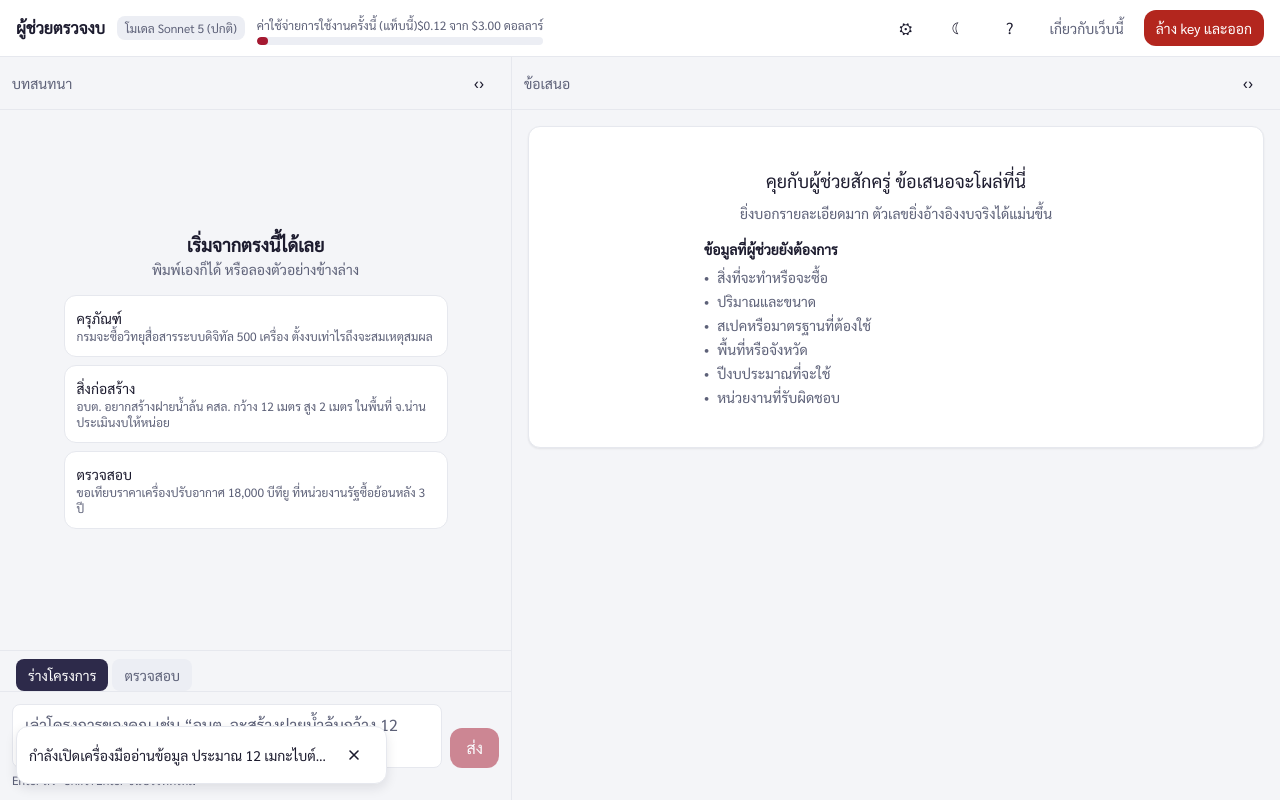
Test: WorkspacePage — header (06 §4.2) › เปิดหน้าตั้งค่าได้จากปุ่ม settings
Click the button named "ตั้งค่า": (906, 28) [886, 8, 926, 48]
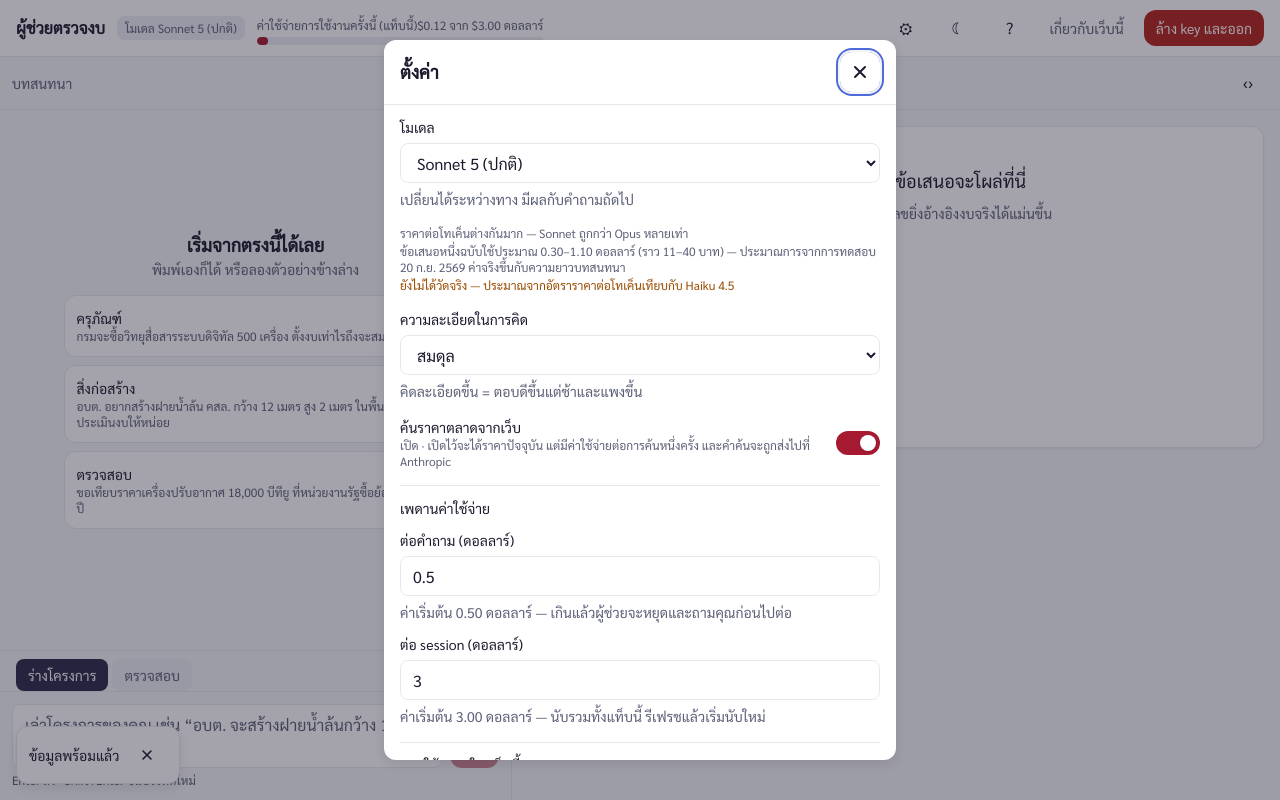
Expected: the heading "ตั้งค่า" is shown, [400, 58, 439, 86]
